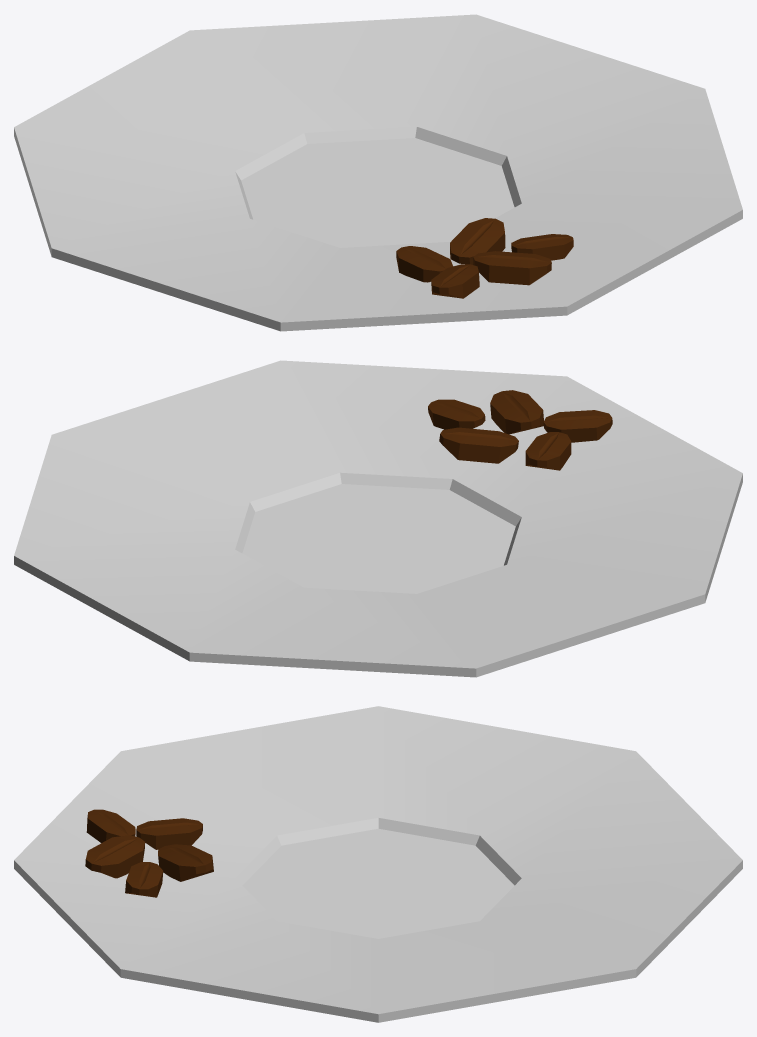
Rendered from CupBase.fbx.
The picture shows the model from 3 angles, top to bottom: view 1: azimuth 30°, elevation 25°; view 2: azimuth 150°, elevation 25°; view 3: azimuth 270°, elevation 25°; orthographic projection. The views are drawn at different scales.
Visible parts, largest first — view 1: CUP_BASE, COFFE_BEAN; view 2: CUP_BASE, COFFE_BEAN; view 3: CUP_BASE, COFFE_BEAN.
Part boxes in pixels (bbox=[...]): CUP_BASE: bbox=[14, 14, 742, 331]; COFFE_BEAN: bbox=[396, 218, 573, 298]; CUP_BASE: bbox=[14, 360, 742, 677]; COFFE_BEAN: bbox=[428, 390, 612, 470]; CUP_BASE: bbox=[14, 706, 742, 1022]; COFFE_BEAN: bbox=[85, 809, 213, 897].
Bounding box in the file's own units: 362 × 25.27 × 362.
